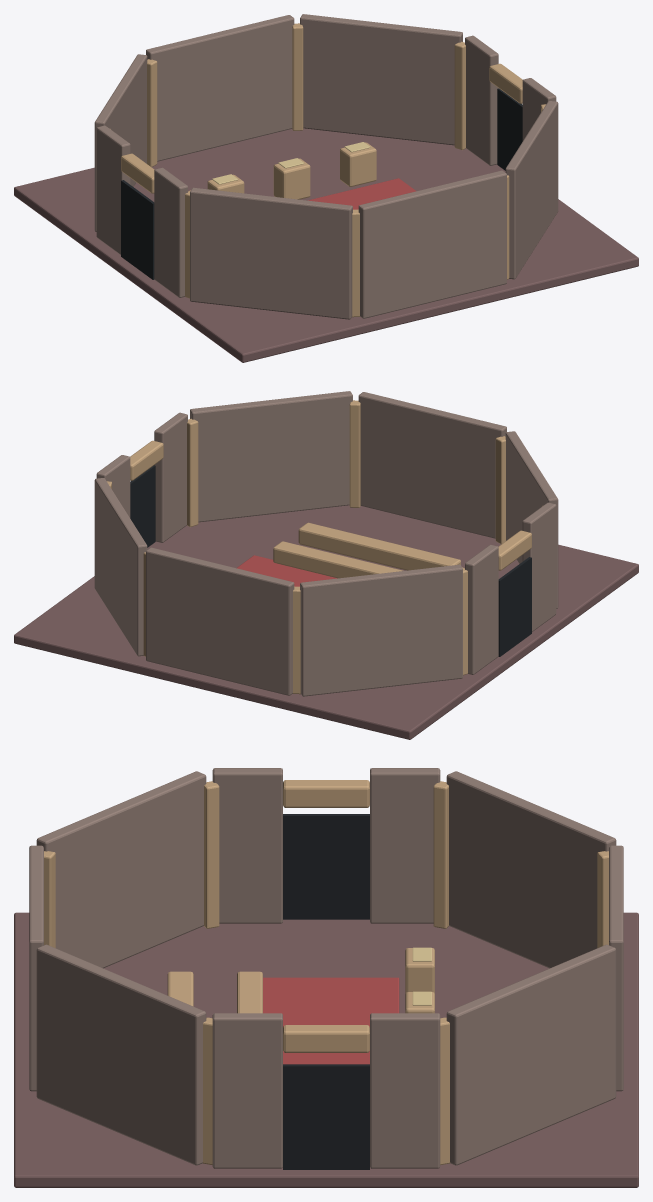
Rendered from linguistic_council_3977.glb.
3 renders of one model, top to bottom at view 1: azimuth 30°, elevation 25°; view 2: azimuth 150°, elevation 25°; view 3: azimuth 270°, elevation 25°, orthographic. The views are drawn at different scales.
Parts seen in each view (by area): view 1: Room floor, SW solid wall, NE solid wall, S solid wall, N solid wall, SE solid wall, W doorway left, E doorway left, NW solid wall, W doorway right, W passage shadow, E passage shadow (+11 smaller); view 2: Room floor, NW solid wall, SE solid wall, N solid wall, S solid wall, NE solid wall, W doorway right, E doorway right, SW solid wall, Listener bench.001, W doorway left, W passage shadow (+11 smaller); view 3: Room floor, NE solid wall, SE solid wall, NW solid wall, SW solid wall, E doorway left, E doorway right, W doorway left, W doorway right, E passage shadow, W passage shadow, Recitation carpet (+13 smaller).
Part boxes in pixels (x1,y1,x2,y2): Room floor: [14, 128, 638, 362]; SW solid wall: [190, 187, 352, 319]; NE solid wall: [300, 14, 462, 145]; S solid wall: [358, 170, 506, 318]; N solid wall: [146, 15, 294, 161]; SE solid wall: [505, 101, 558, 279]; W doorway left: [154, 167, 187, 297]; E doorway left: [465, 35, 498, 165]; NW solid wall: [94, 54, 147, 231]; W doorway right: [96, 125, 130, 254]; W passage shadow: [121, 180, 154, 279]; E passage shadow: [497, 88, 522, 170]; Room floor: [14, 505, 638, 739]; NW solid wall: [300, 564, 462, 696]; SE solid wall: [190, 391, 352, 522]; N solid wall: [146, 547, 294, 695]; S solid wall: [358, 392, 506, 538]; NE solid wall: [94, 478, 147, 656]; W doorway right: [465, 544, 498, 674]; E doorway right: [154, 412, 187, 542]; SW solid wall: [505, 431, 558, 608]; Listener bench.001: [298, 522, 460, 570]; W doorway left: [522, 502, 556, 631]; W passage shadow: [498, 557, 531, 656]; Room floor: [14, 912, 638, 1187]; NE solid wall: [446, 944, 616, 1165]; SE solid wall: [36, 944, 206, 1165]; NW solid wall: [446, 771, 616, 968]; SW solid wall: [36, 771, 206, 968]; E doorway left: [370, 1013, 440, 1168]; E doorway right: [212, 1013, 282, 1168]; W doorway left: [212, 768, 282, 923]; W doorway right: [370, 768, 440, 923]; E passage shadow: [283, 1064, 369, 1169]; W passage shadow: [283, 814, 369, 919]; Recitation carpet: [263, 977, 399, 1064].
Bounding box in the file's own units: 18 × 5.2 × 18.
